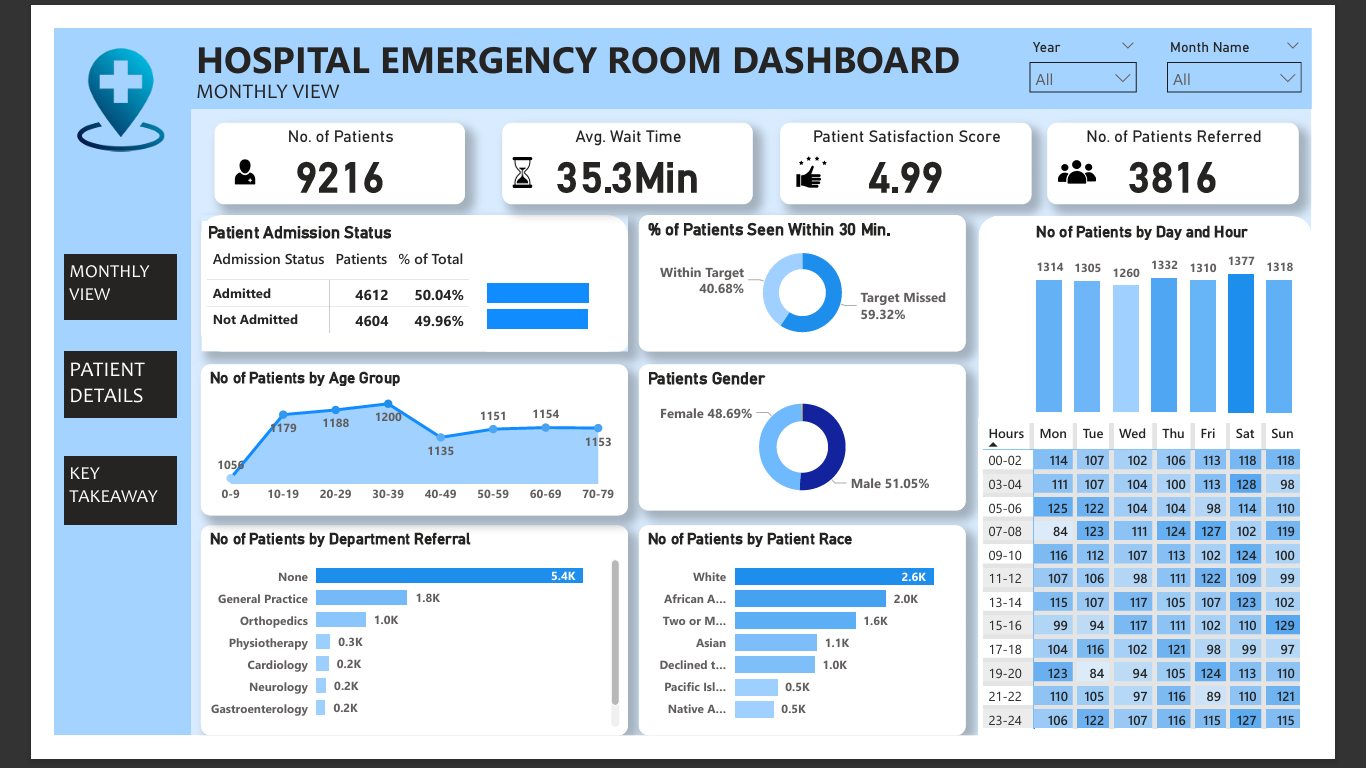

This screenshot's page, from the dashboard's own definition file:
{"tool":"powerbi","page":{"name":"Monthly View","canvas":[1280,720],"ordinal":0},"visuals":[{"type":"shape","box":[0,0,138.9,720],"z":0},{"type":"shape","box":[138.9,0,1141.2,82.2],"z":1000},{"type":"textbox","box":[138.9,0,802.2,68.7],"z":2000},{"type":"textbox","box":[138.9,46.3,170.3,35.9],"z":3000},{"type":"card","title":"No. of Patients","fields":{"Values":["Hospital ER_Data.No of Patients"]},"box":[162.8,95.6,255.4,83.7],"z":4000},{"type":"shape","box":[149.4,189.7,434.7,138.9],"z":5000},{"type":"slicer","fields":{"Values":["Hospital ER_Data.Month Name"]},"box":[1122.8,6.3,157.2,67.6],"z":6000},{"type":"slicer","fields":{"Values":["Hospital ER_Data.Year"]},"box":[982.8,6.3,128.9,67.6],"z":7000},{"type":"card","title":"Avg. Wait Time","fields":{"Values":["Hospital ER_Data.Avg. Wait time"]},"box":[455.6,95.6,255.4,83.7],"z":8000},{"type":"card","title":"Patient Satisfaction Score","fields":{"Values":["Avg(Hospital ER_Data.Patient Satisfaction Score)"]},"box":[739.4,95.6,255.4,83.7],"z":9000},{"type":"card","title":"No. of Patients Referred","fields":{"Values":["Hospital ER_Data.No. of Patients Referred"]},"box":[1011.3,95.6,255.4,83.7],"z":10000},{"type":"pivotTable","title":"Patient Admission Status","fields":{"Rows":["Hospital ER_Data.Admission Status"],"Values":["Hospital ER_Data.No of Patients1","Hospital ER_Data.No of Patients"]},"box":[150.9,197.2,280.8,131.5],"z":11000},{"type":"barChart","fields":{"Category":["Hospital ER_Data.Admission Status"],"Y":["Hospital ER_Data.No of Patients"]},"box":[431.7,230,152.4,98.6],"z":12000},{"type":"clusteredBarChart","fields":{"Category":["Hospital ER_Data.Department Referral"],"Y":["Hospital ER_Data.No of Patients"]},"box":[149.4,506.4,434.7,213.6],"z":13000},{"type":"donutChart","title":"% of Patients Seen Within 30 Min.","fields":{"Category":["Hospital ER_Data.Waittime Status"],"Y":["Hospital ER_Data.No of Patients"]},"box":[594.5,189.7,333.1,138.9],"z":14000},{"type":"lineChart","fields":{"Y":["Hospital ER_Data.No of Patients"],"Category":["Hospital ER_Data.Age Group"]},"box":[149.4,342.1,434.7,153.9],"z":15000},{"type":"donutChart","title":"Patients Gender","fields":{"Y":["Hospital ER_Data.No of Patients"],"Category":["Hospital ER_Data.Patient Gender"]},"box":[594.5,342.1,333.1,149.4],"z":16000},{"type":"shape","box":[941.1,191.2,339.1,528.8],"z":17000},{"type":"clusteredBarChart","fields":{"Y":["Hospital ER_Data.No of Patients"],"Category":["Hospital ER_Data.Patient Race"]},"box":[594.5,506.4,333.1,213.6],"z":18000},{"type":"pivotTable","fields":{"Rows":["Hospital ER_Data.Wait time Interval"],"Columns":["Hospital ER_Data.Day Name"],"Values":["Hospital ER_Data.No of Patients"]},"box":[941.1,397.3,339.1,322.7],"z":19000},{"type":"columnChart","title":"No of Patients by Day and Hour","fields":{"Category":["Hospital ER_Data.Day Name"],"Y":["Hospital ER_Data.No of Patients"]},"box":[994.9,197.2,271.9,200.2],"z":20000},{"type":"image","box":[10.5,7.5,115,130],"z":21000},{"type":"image","box":[1011.3,122.5,58.3,47.8],"z":22000},{"type":"image","box":[455.6,122.5,41.8,47.8],"z":23000},{"type":"image","box":[162.8,122.5,61.2,47.8],"z":24000},{"type":"image","box":[739.4,122.5,62.7,47.8],"z":25000},{"type":"textbox","box":[10.5,230,115,67.2],"z":26000},{"type":"textbox","box":[10.5,328.6,115,68.7],"z":27000},{"type":"textbox","box":[10.5,436.2,115,70.2],"z":28000},{"type":"shape","box":[0,328.6,138.9,68.7],"z":29000},{"type":"shape","box":[0,436.2,138.9,70.2],"z":30000}]}

Visuals, with their boxes in screenshot pixels (x1, y1, x2, y2), scaled from the page's 1280x720 canvas onto the 1366x768 screenshot:
shape: bbox=[0, 0, 148, 767]
shape: bbox=[148, 0, 1365, 88]
textbox: bbox=[148, 0, 1004, 73]
textbox: bbox=[148, 49, 330, 88]
"No. of Patients" card: bbox=[174, 102, 446, 191]
shape: bbox=[159, 202, 623, 351]
slicer - Hospital ER_Data.Month Name: bbox=[1198, 7, 1365, 79]
slicer - Hospital ER_Data.Year: bbox=[1049, 7, 1186, 79]
"Avg. Wait Time" card: bbox=[486, 102, 759, 191]
"Patient Satisfaction Score" card: bbox=[789, 102, 1062, 191]
"No. of Patients Referred" card: bbox=[1079, 102, 1352, 191]
"Patient Admission Status" pivotTable: bbox=[161, 210, 461, 351]
barChart - Hospital ER_Data.Admission Status x Hospital ER_Data.No of Patients: bbox=[461, 245, 623, 351]
clusteredBarChart - Hospital ER_Data.Department Referral x Hospital ER_Data.No of Patients: bbox=[159, 540, 623, 767]
"% of Patients Seen Within 30 Min." donutChart: bbox=[634, 202, 990, 351]
lineChart - Hospital ER_Data.No of Patients x Hospital ER_Data.Age Group: bbox=[159, 365, 623, 529]
"Patients Gender" donutChart: bbox=[634, 365, 990, 524]
shape: bbox=[1004, 204, 1365, 767]
clusteredBarChart - Hospital ER_Data.No of Patients x Hospital ER_Data.Patient Race: bbox=[634, 540, 990, 767]
pivotTable - Hospital ER_Data.Wait time Interval x Hospital ER_Data.Day Name: bbox=[1004, 424, 1365, 767]
"No of Patients by Day and Hour" columnChart: bbox=[1062, 210, 1352, 424]
image: bbox=[11, 8, 134, 147]
image: bbox=[1079, 131, 1141, 182]
image: bbox=[486, 131, 531, 182]
image: bbox=[174, 131, 239, 182]
image: bbox=[789, 131, 856, 182]
textbox: bbox=[11, 245, 134, 317]
textbox: bbox=[11, 351, 134, 424]
textbox: bbox=[11, 465, 134, 540]
shape: bbox=[0, 351, 148, 424]
shape: bbox=[0, 465, 148, 540]
